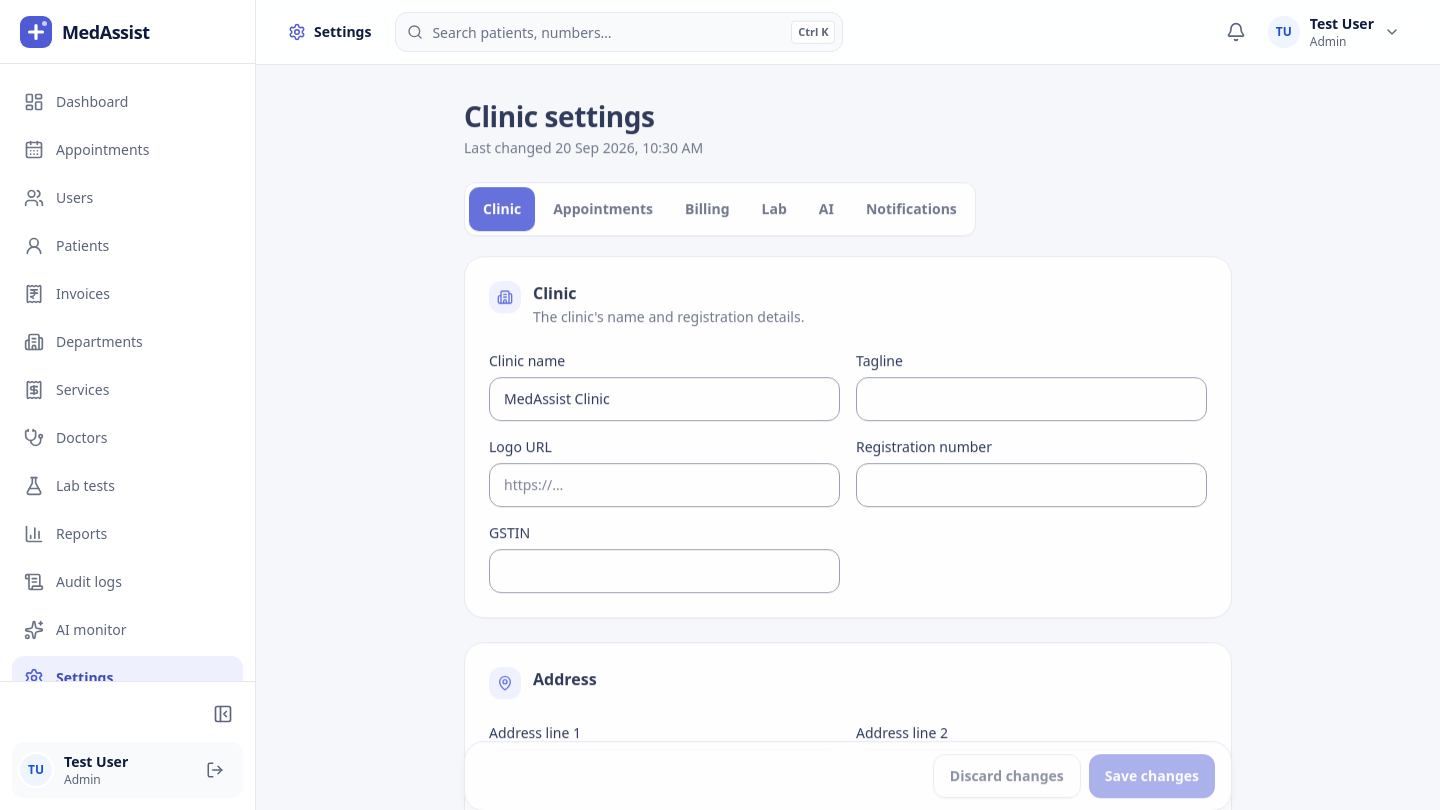
SettingsPage › shows server field errors on the right field and tab
This screenshot has width=1440, height=810.
expect the field labelled "Clinic name" is shown: met, box [489, 376, 840, 420]
Click the tab "Billing".
click(707, 208)  # box [671, 186, 744, 230]
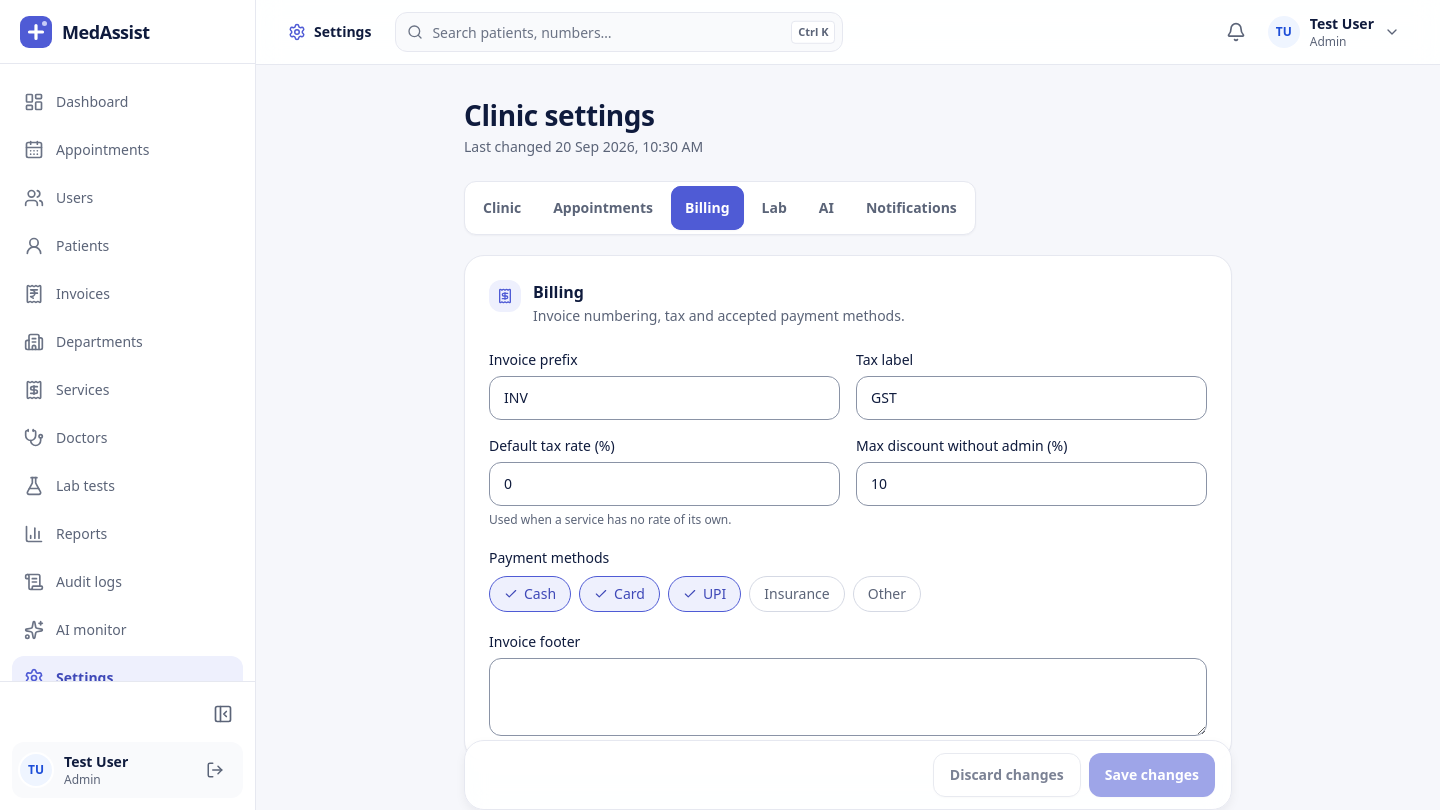
Replace the text in the number field labelled "Default tax rate (%)" with "28" at (664, 484), box [489, 462, 840, 506]
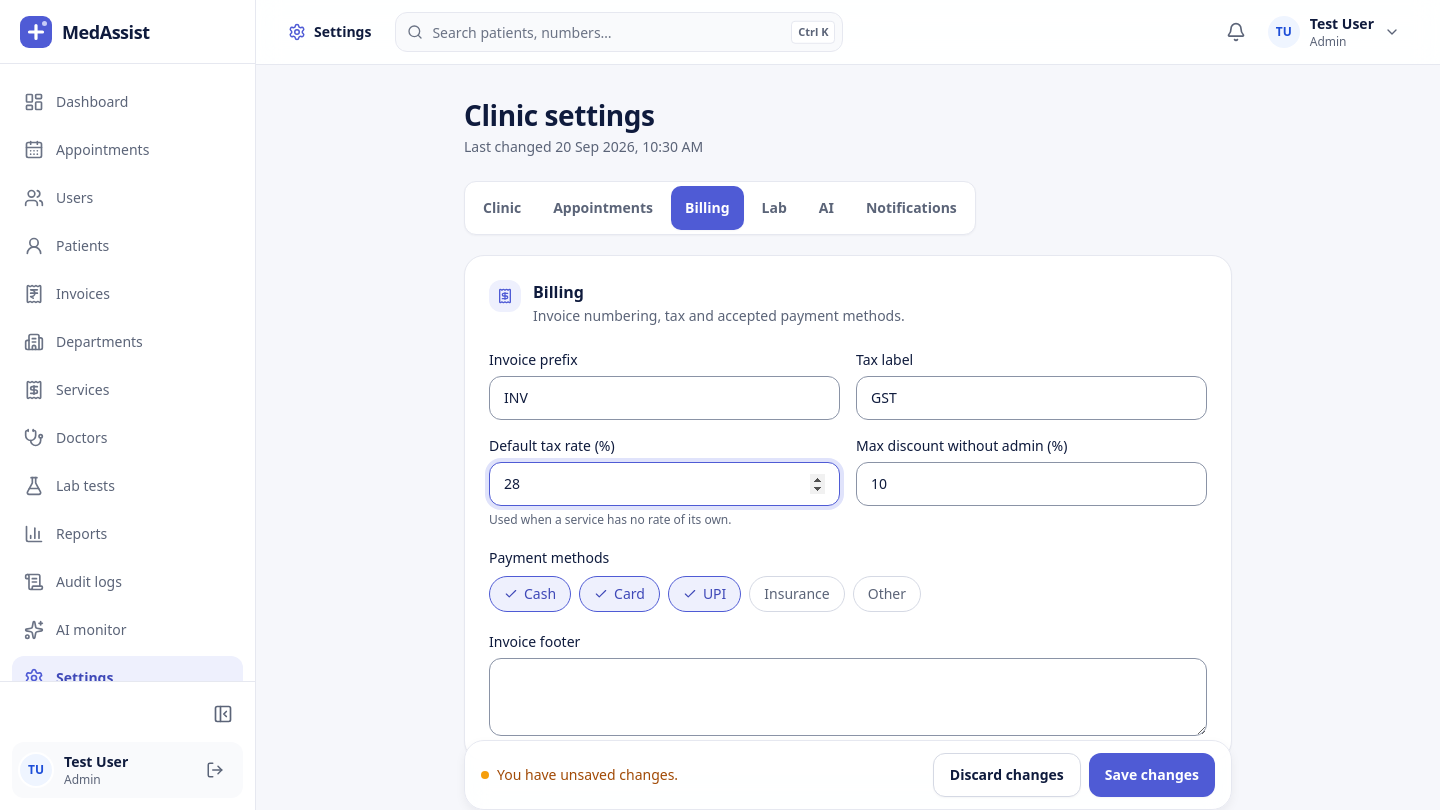
Click the tab "Clinic".
click(502, 208)  # box [469, 186, 535, 230]
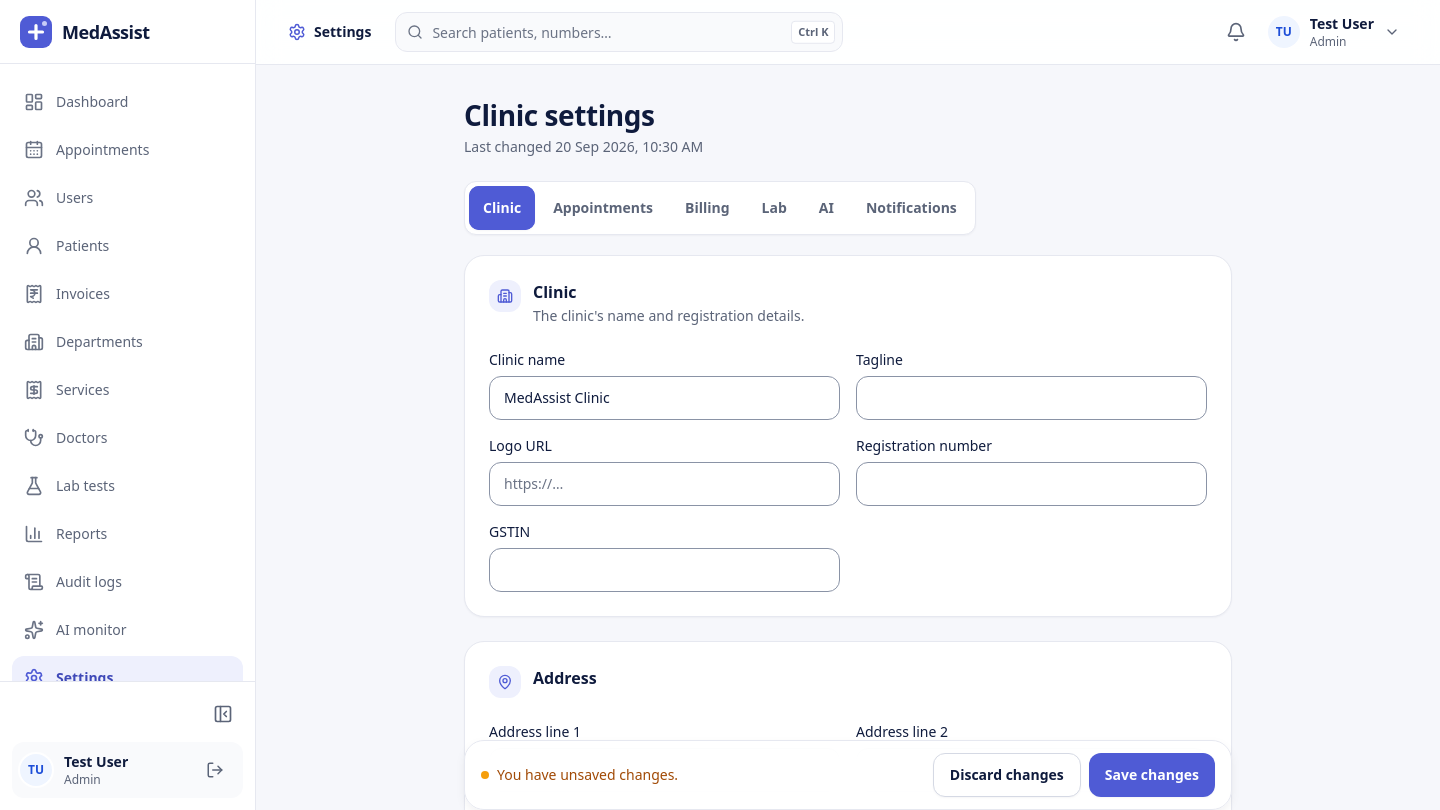
Click the button "Save changes".
click(1152, 775)  # box [1089, 753, 1215, 797]
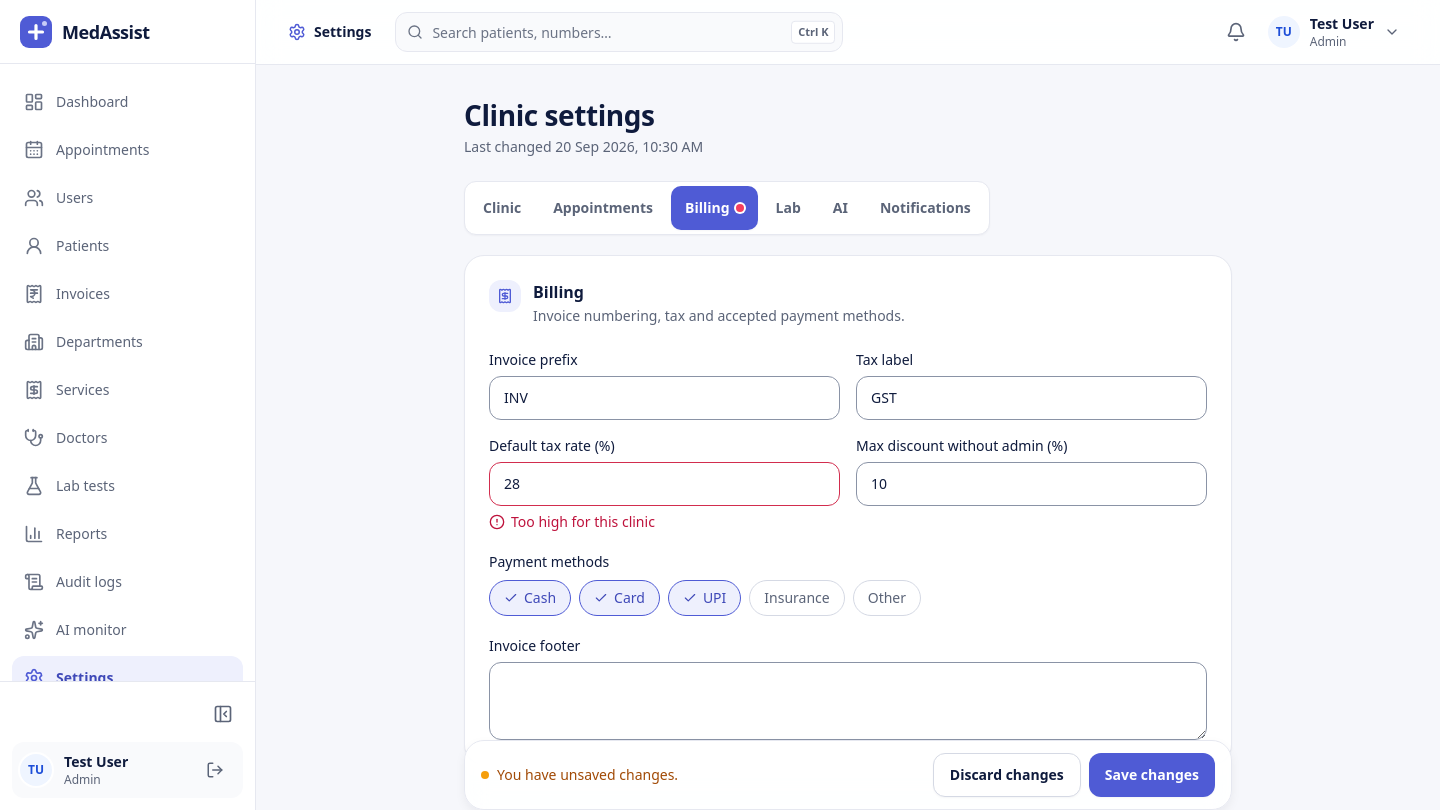
expect the text "Too high for this clinic" is shown: met, box [511, 512, 655, 532]
